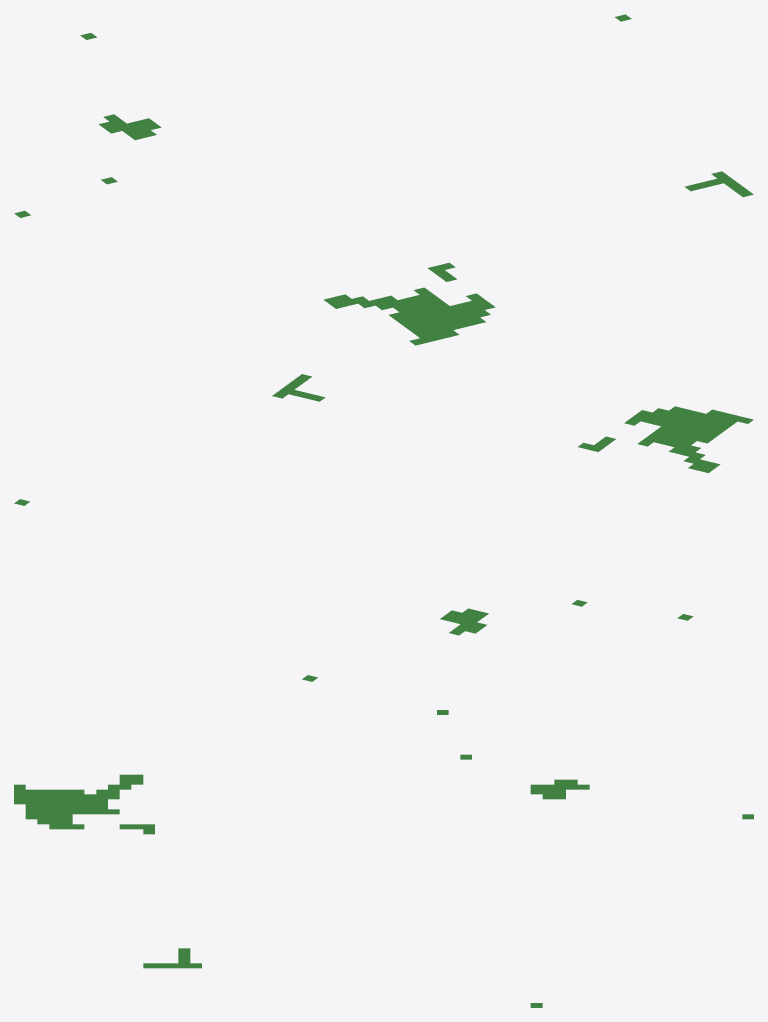
File: Isl-rocky4-TreesArea.fbx
3 views of the same model, one above another, from view 1: azimuth 30°, elevation 25°; view 2: azimuth 150°, elevation 25°; view 3: azimuth 270°, elevation 25° (orthographic). The views are drawn at different scales.
Visible parts, largest first — view 1: Isl-rocky4-TreesArea; view 2: Isl-rocky4-TreesArea; view 3: Isl-rocky4-TreesArea.
Part boxes in pixels (bbox=[...]): Isl-rocky4-TreesArea: bbox=[14, 14, 753, 345]; Isl-rocky4-TreesArea: bbox=[14, 374, 753, 681]; Isl-rocky4-TreesArea: bbox=[14, 710, 753, 1007].
Bounding box in the file's own units: 60 × 0 × 63.
